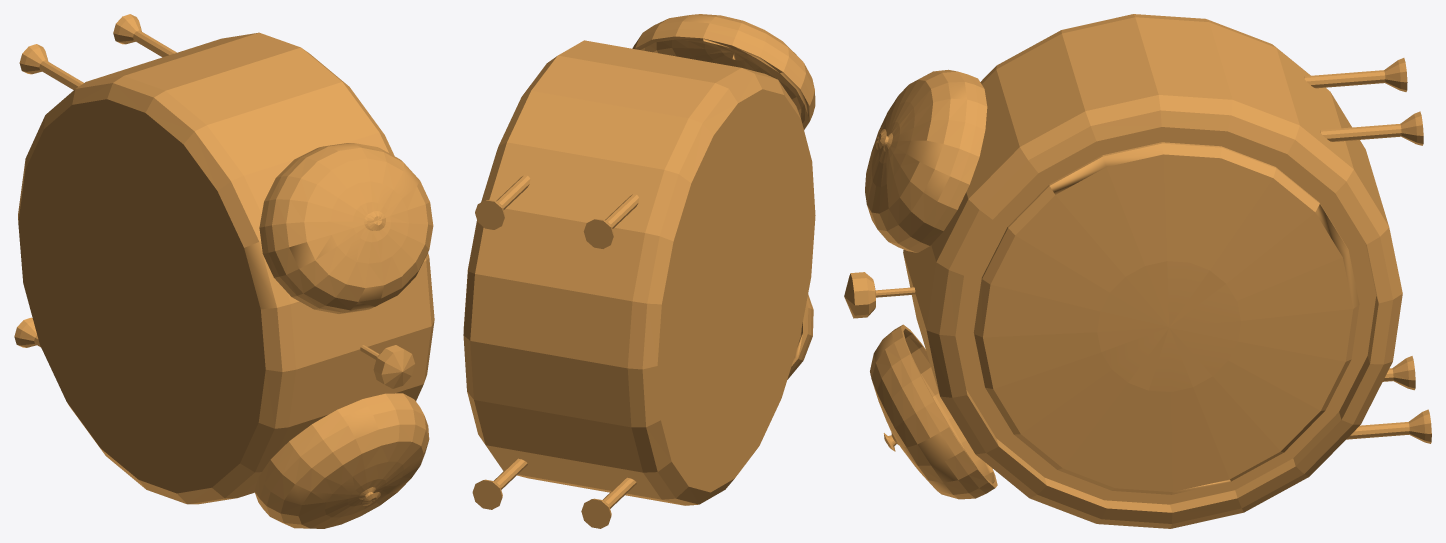
The model's file is alarmClock1_6.dae.
The picture shows the model from 3 angles, left to right: view 1: azimuth 30°, elevation 25°; view 2: azimuth 150°, elevation 25°; view 3: azimuth 270°, elevation 25°; orthographic projection. The views are drawn at different scales.
Visible parts, largest first — view 1: M006126_019; view 2: M006126_019; view 3: M006126_019.
Part boxes in pixels (<box>): M006126_019: <box>14,14,434,528</box>; M006126_019: <box>463,14,815,528</box>; M006126_019: <box>844,14,1431,528</box>.
Size of the model in its own units: 0.1 by 0.2041 by 0.1669.
